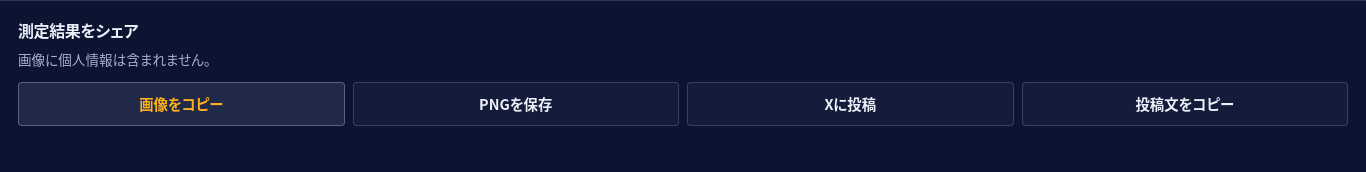
it: ShareResultButton › PNG画像をClipboardへコピーし、Web Share APIを使用しない
This screenshot has width=1366, height=172.
What coordinates should you click on to do the following:
click the button "画像をコピー"
I would click on:
 (181, 104)
Its box is top-left (18, 82), bottom-right (344, 126).
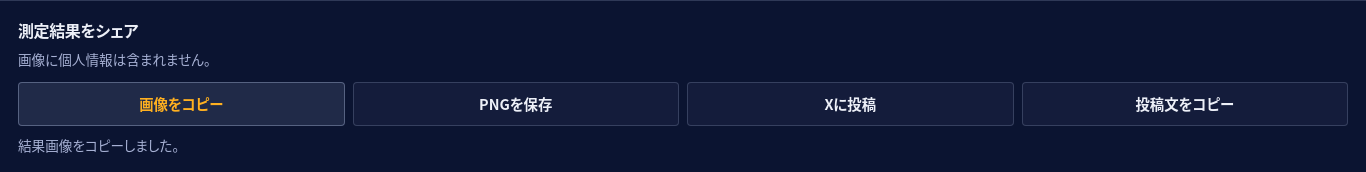
expect the message reads "結果画像をコピーしました。": met, box top-left (18, 135), bottom-right (179, 155)
